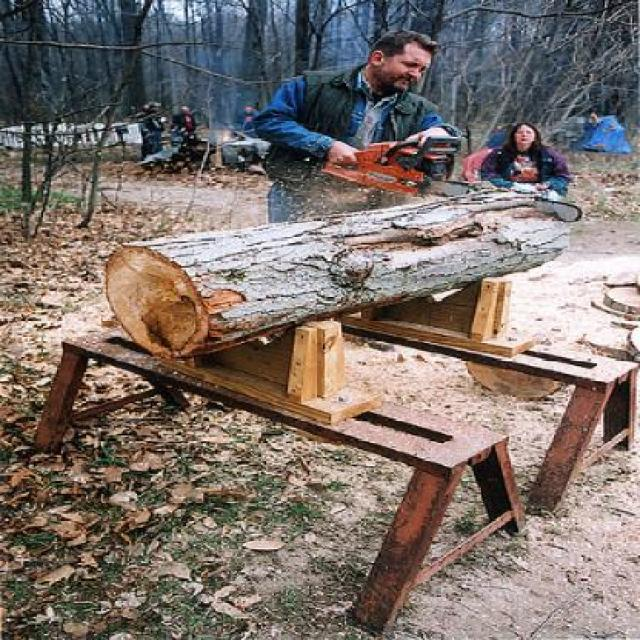Chainsaw: (314, 138, 586, 224)
